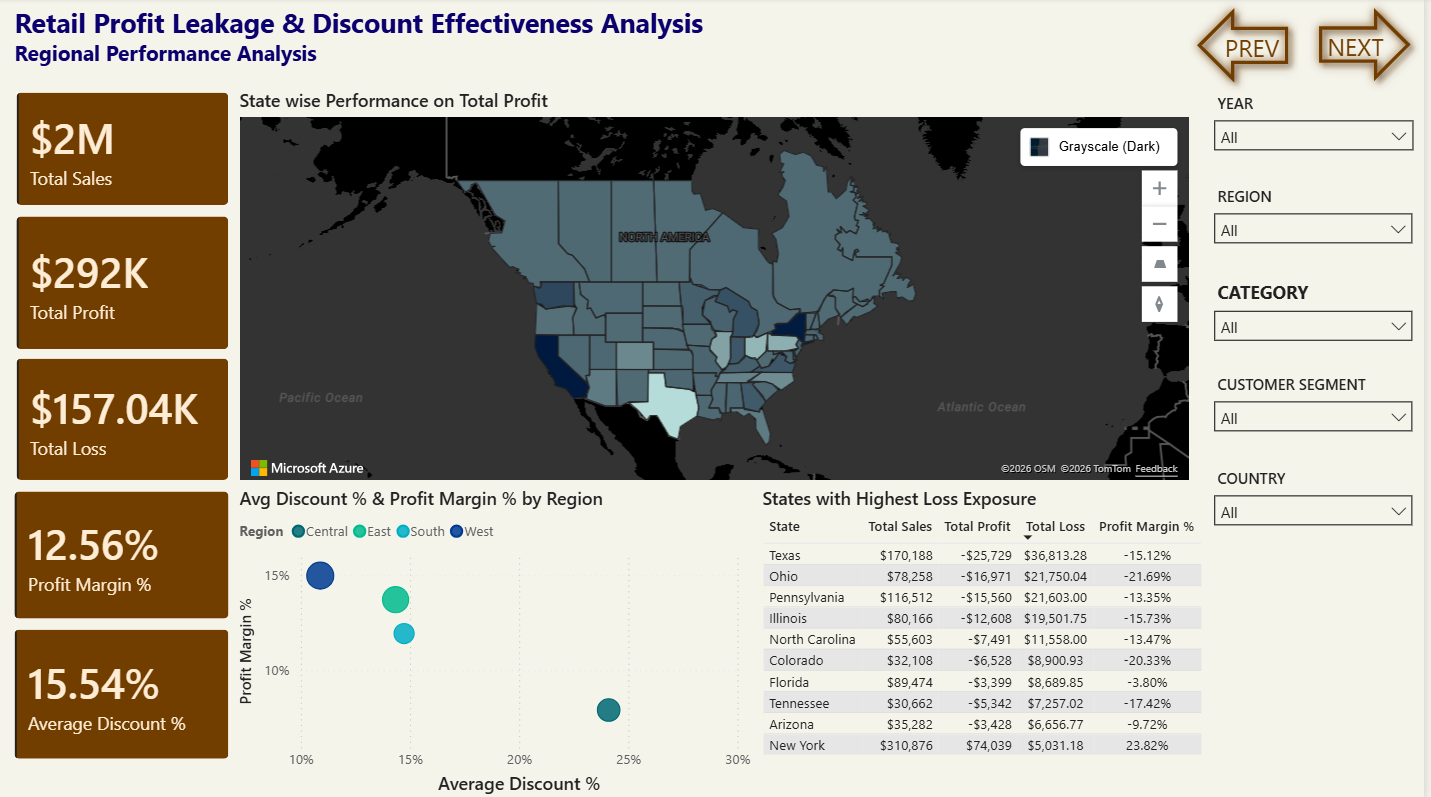

The dashboard page shown, as its layout file describes it:
{"tool":"powerbi","page":{"name":"Regional Performance Analysis","canvas":[1280,720],"ordinal":3},"visuals":[{"type":"textbox","box":[9.7,0,656.5,72.9],"z":0},{"type":"cardVisual","fields":{"Data":["_Measures.Total Profit"]},"box":[12,191,200,129],"z":1000},{"type":"cardVisual","fields":{"Data":["_Measures.Average Discount %"]},"box":[10,562,202,126],"z":2000},{"type":"cardVisual","fields":{"Data":["_Measures.Total Sales"]},"box":[12,80,200,111],"z":3000},{"type":"cardVisual","fields":{"Data":["_Measures.Profit Margin %"]},"box":[10,438,202,124],"z":4000},{"type":"slicer","fields":{"Values":["dim_date.year"]},"box":[1081.4,80.4,198.6,84.3],"z":5000},{"type":"slicer","fields":{"Values":["dim_geography.region"]},"box":[1082,164,198,84],"z":6000},{"type":"slicer","fields":{"Values":["dim_customer.segment"]},"box":[1081.6,332.6,198.4,84.6],"z":7000},{"type":"scatterChart","title":"Avg Discount % & Profit Margin % by Region","fields":{"Category":["dim_geography.region Hierarchy.region","dim_geography.region Hierarchy.state","dim_geography.region Hierarchy.city"],"Series":["dim_geography.region"],"X":["_Measures.Average Discount %"],"Y":["_Measures.Profit Margin %"],"Size":["_Measures.Total Sales"]},"box":[212,438,469,282],"z":8000},{"type":"azureMap","title":"State wise Performance on Total Profit","fields":{"Category":["dim_geography.state"]},"box":[212,81,862,357],"z":9000},{"type":"cardVisual","fields":{"Data":["_Measures.Total Loss"]},"box":[12,319,200,119],"z":10000},{"type":"actionButton","box":[1067,0,100,85],"z":11000},{"type":"slicer","fields":{"Values":["dim_product.category"]},"box":[1081.6,248,198.4,84.6],"z":12000},{"type":"tableEx","title":"States with Highest Loss Exposure","fields":{"Values":["dim_geography.state","_Measures.Total Sales","_Measures.Total Profit","_Measures.Total Loss","_Measures.Profit Margin %"]},"box":[681,438,410,282],"z":13000},{"type":"slicer","fields":{"Values":["dim_geography.country"]},"box":[1081.6,417.3,198.4,79.8],"z":14000},{"type":"actionButton","box":[1176.9,0,100.2,83.6],"z":15000}]}

Visuals, with their boxes in screenshot pixels (x1, y1, x2, y2), scaled from the page's 1280x720 canvas onto the 1431x797 screenshot:
textbox: <region>11, 0, 745, 81</region>
cardVisual - _Measures.Total Profit: <region>13, 211, 237, 354</region>
cardVisual - _Measures.Average Discount %: <region>11, 622, 237, 762</region>
cardVisual - _Measures.Total Sales: <region>13, 89, 237, 211</region>
cardVisual - _Measures.Profit Margin %: <region>11, 485, 237, 622</region>
slicer - dim_date.year: <region>1209, 89, 1430, 182</region>
slicer - dim_geography.region: <region>1210, 182, 1430, 275</region>
slicer - dim_customer.segment: <region>1209, 368, 1430, 462</region>
"Avg Discount % & Profit Margin % by Region" scatterChart: <region>237, 485, 761, 796</region>
"State wise Performance on Total Profit" azureMap: <region>237, 90, 1201, 485</region>
cardVisual - _Measures.Total Loss: <region>13, 353, 237, 485</region>
actionButton: <region>1193, 0, 1305, 94</region>
slicer - dim_product.category: <region>1209, 275, 1430, 368</region>
"States with Highest Loss Exposure" tableEx: <region>761, 485, 1220, 796</region>
slicer - dim_geography.country: <region>1209, 462, 1430, 550</region>
actionButton: <region>1316, 0, 1428, 93</region>
